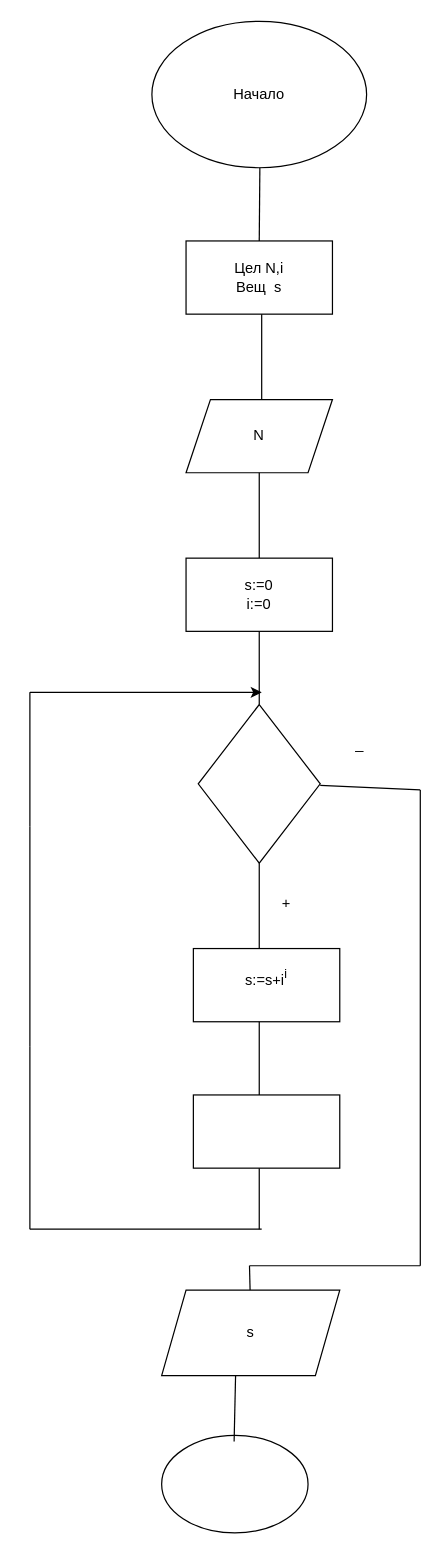
This 443x1554 diagram has some shape labels left out. The shapes that lost their labels are listed below. From the top down, each one's centre as x and y in pixels, then its label:
(x=258, y=783): i<=N
(x=266, y=1131): i:=i+1
(x=234, y=1483): конец
